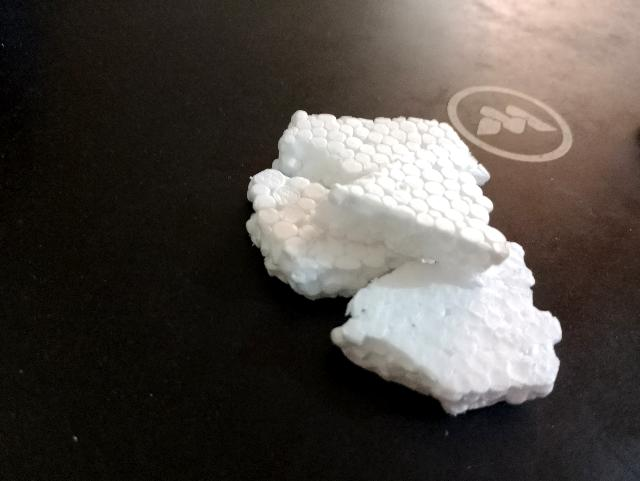cocksheet: (229, 66, 584, 472)
